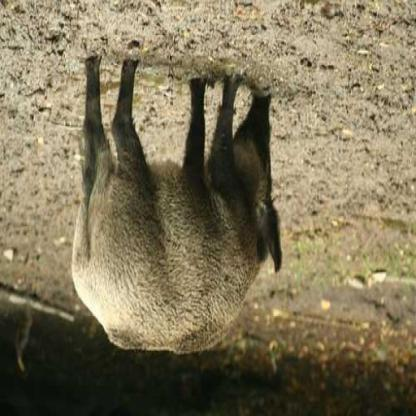boar: (46, 29, 309, 386)
